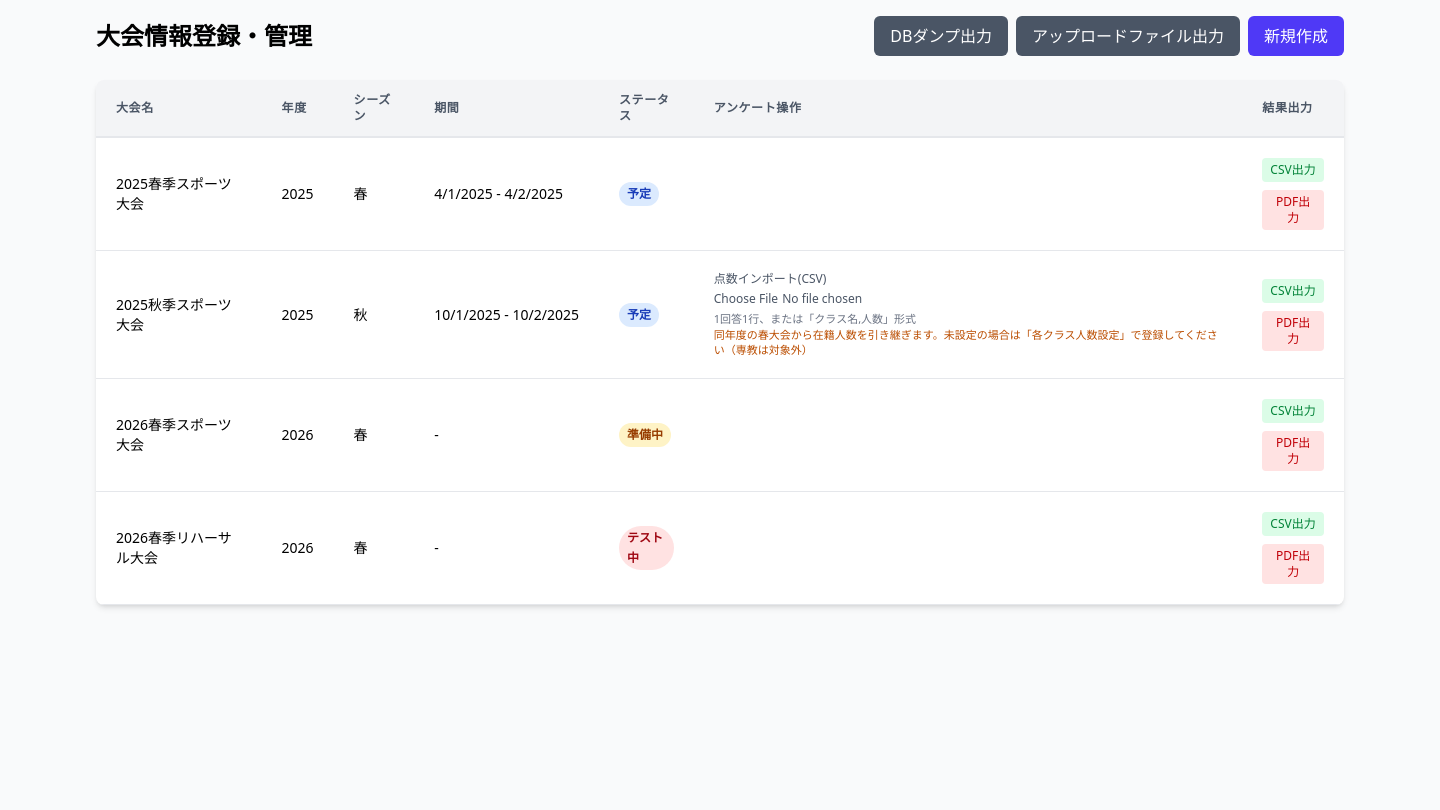
Test: Event Management Page › 「新規作成」ボタンをクリックするとモーダルが開くこと
The image size is (1440, 810).
Click the button "新規作成" at (1296,36), box [1248,16,1344,56]
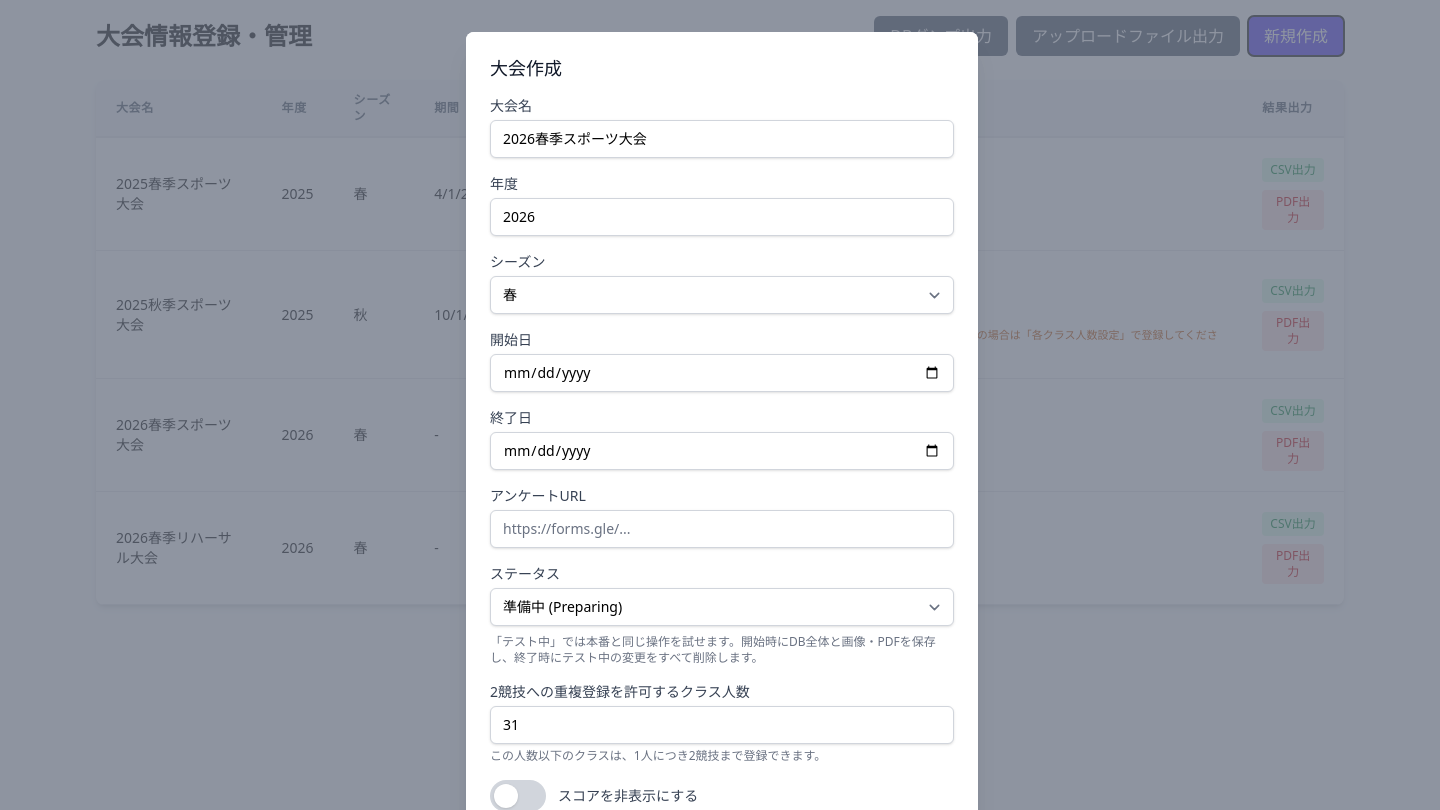
expect the heading "大会作成" is shown: met, box [490,56,562,80]
